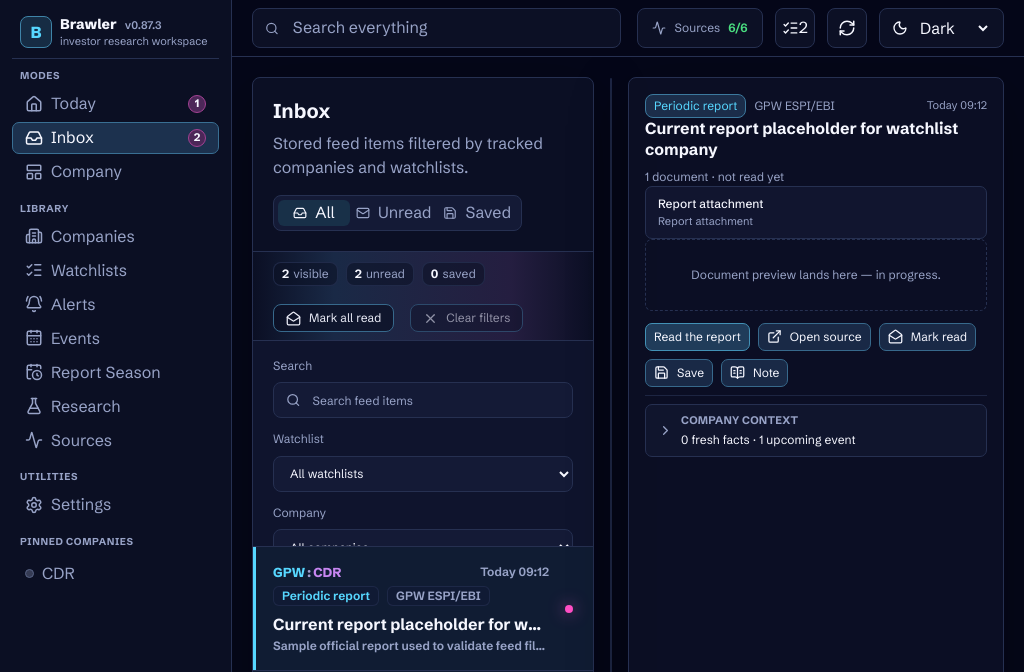
Test: Inbox screen workflows › marks all visible inbox items as read
Step 1. Click the button "Mark all read" → (334, 318), box [273,304,394,332]
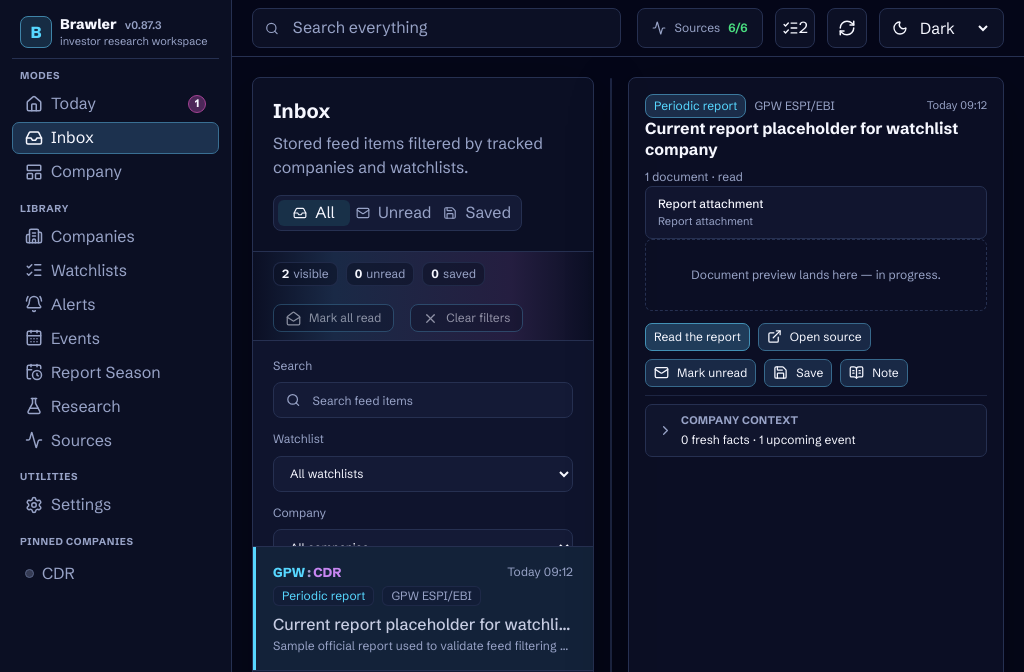
Result: the element named "Inbox review summary" shows "0 unread" at [273,260,485,288]
